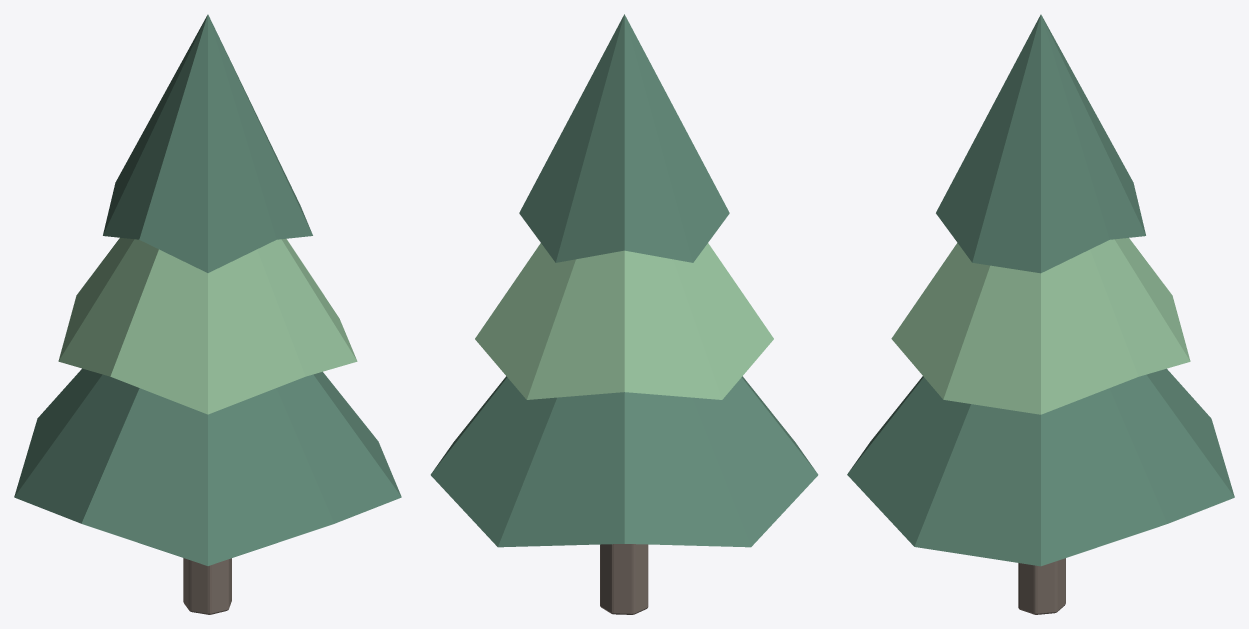
The model's file is golden_reservepine.glb.
3 views of the same model, side by side, from view 1: azimuth 30°, elevation 25°; view 2: azimuth 150°, elevation 25°; view 3: azimuth 270°, elevation 25° (orthographic).
Parts seen in each view (by area): view 1: GS_ReservePine_Canopy0_ForestDeep, GS_ReservePine_Canopy1_LeafGreen, GS_ReservePine_Canopy2_ForestDeep, GS_ReservePine_Trunk_BarkWood; view 2: GS_ReservePine_Canopy0_ForestDeep, GS_ReservePine_Canopy1_LeafGreen, GS_ReservePine_Canopy2_ForestDeep, GS_ReservePine_Trunk_BarkWood; view 3: GS_ReservePine_Canopy0_ForestDeep, GS_ReservePine_Canopy1_LeafGreen, GS_ReservePine_Canopy2_ForestDeep, GS_ReservePine_Trunk_BarkWood.
Boxes of the visible parts, bbox=[...] form: GS_ReservePine_Canopy0_ForestDeep: bbox=[14, 368, 401, 565]; GS_ReservePine_Canopy1_LeafGreen: bbox=[58, 237, 357, 414]; GS_ReservePine_Canopy2_ForestDeep: bbox=[103, 14, 312, 272]; GS_ReservePine_Trunk_BarkWood: bbox=[183, 558, 231, 614]; GS_ReservePine_Canopy0_ForestDeep: bbox=[430, 376, 818, 547]; GS_ReservePine_Canopy1_LeafGreen: bbox=[475, 243, 773, 399]; GS_ReservePine_Canopy2_ForestDeep: bbox=[519, 14, 729, 262]; GS_ReservePine_Trunk_BarkWood: bbox=[600, 544, 648, 614]; GS_ReservePine_Canopy0_ForestDeep: bbox=[847, 368, 1234, 566]; GS_ReservePine_Canopy1_LeafGreen: bbox=[891, 238, 1190, 414]; GS_ReservePine_Canopy2_ForestDeep: bbox=[936, 14, 1145, 273]; GS_ReservePine_Trunk_BarkWood: bbox=[1018, 558, 1065, 614].
Bounding box in the file's own units: 6.79 × 11.6 × 6.89.
